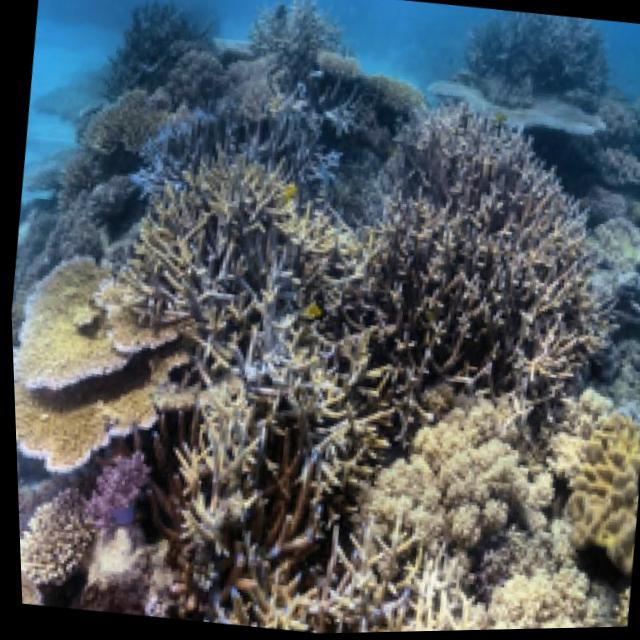Dead Coral: (315, 82, 635, 417), (67, 104, 385, 382), (138, 362, 306, 569)
